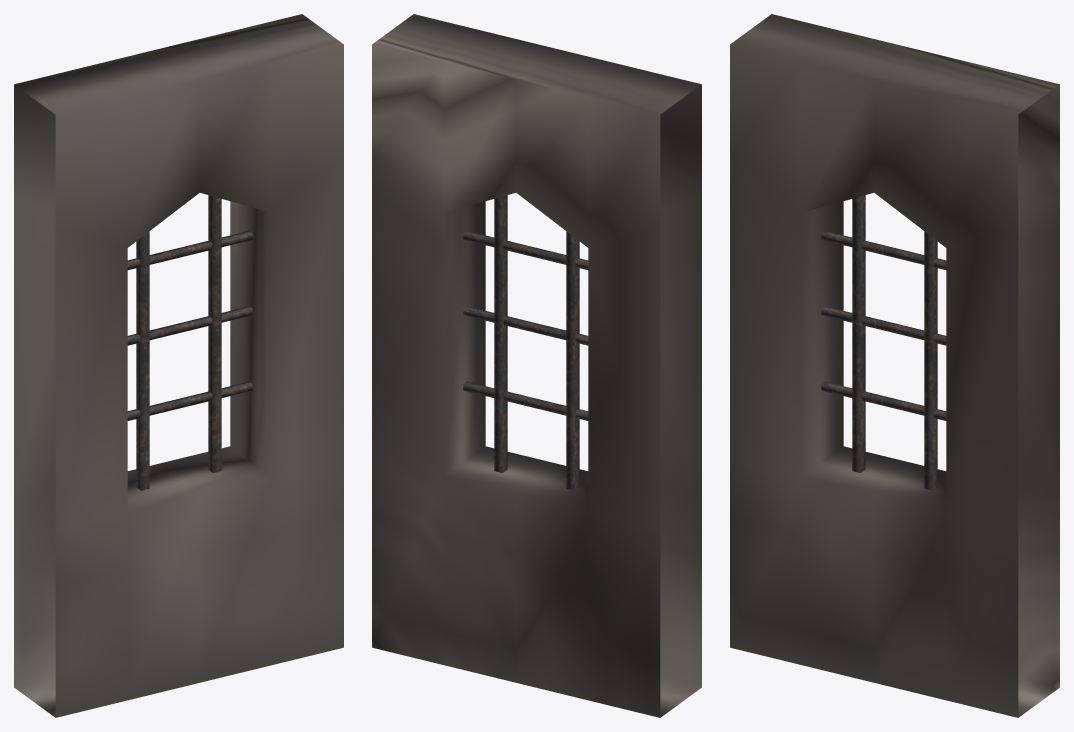
Rendered from towerblock_window2.glb.
3 views of the same model, side by side, from view 1: azimuth 30°, elevation 25°; view 2: azimuth 150°, elevation 25°; view 3: azimuth 330°, elevation 25° (orthographic).
Visible parts, largest first — view 1: towerblock_window2; view 2: towerblock_window2; view 3: towerblock_window2.
Boxes of the visible parts, <box> form: towerblock_window2: <box>14,14,343,717</box>; towerblock_window2: <box>372,14,701,717</box>; towerblock_window2: <box>730,14,1059,717</box>.
Size of the model in its own units: 4 by 8 by 1.
2 materials, 2 textured.
